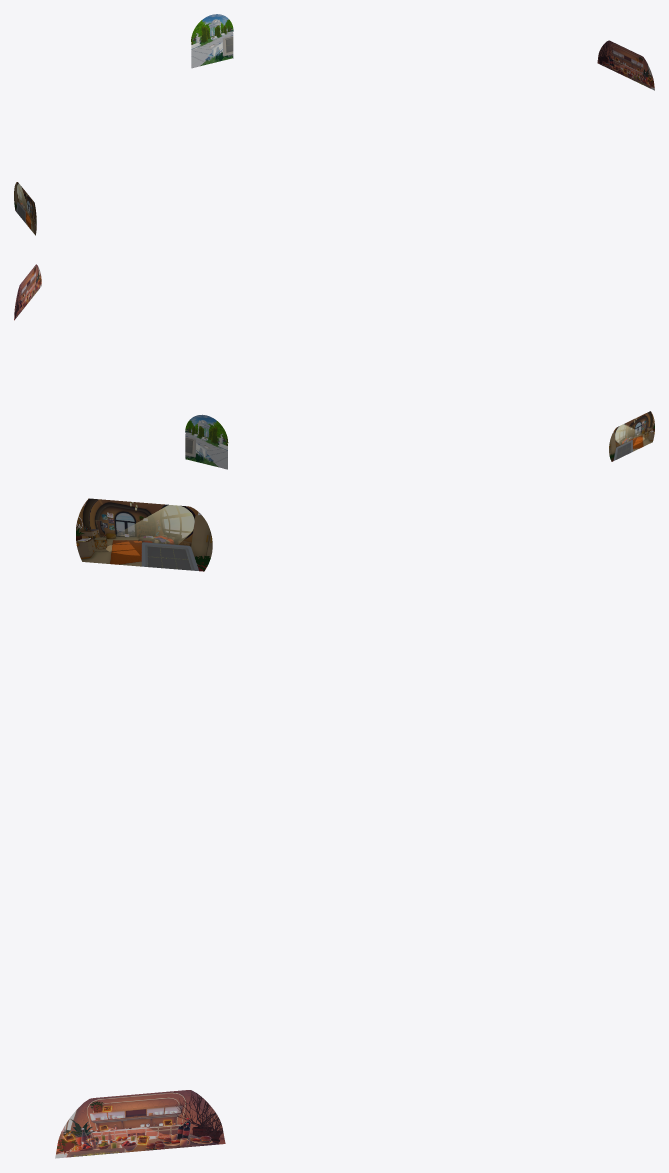
File: Fakes.fbx
3 renders of one model, top to bottom at view 1: azimuth 30°, elevation 25°; view 2: azimuth 150°, elevation 25°; view 3: azimuth 270°, elevation 25°, orthographic. The views are drawn at different scales.
Visible parts, largest first — view 1: FakePark, FakeKitchen, FakeBedroom; view 2: FakePark, FakeBedroom, FakeKitchen; view 3: FakeKitchen, FakeBedroom.
Part boxes in pixels (<box>): FakePark: <box>191,14,233,68</box>; FakeKitchen: <box>597,40,654,90</box>; FakeBedroom: <box>14,182,36,235</box>; FakePark: <box>185,414,228,469</box>; FakeBedroom: <box>609,411,654,461</box>; FakeKitchen: <box>14,264,41,320</box>; FakeKitchen: <box>55,1090,225,1158</box>; FakeBedroom: <box>76,498,212,571</box>.
Size of the model in its own units: 8620 by 654 by 3402.
Materials: 1 (1 with a texture image).
